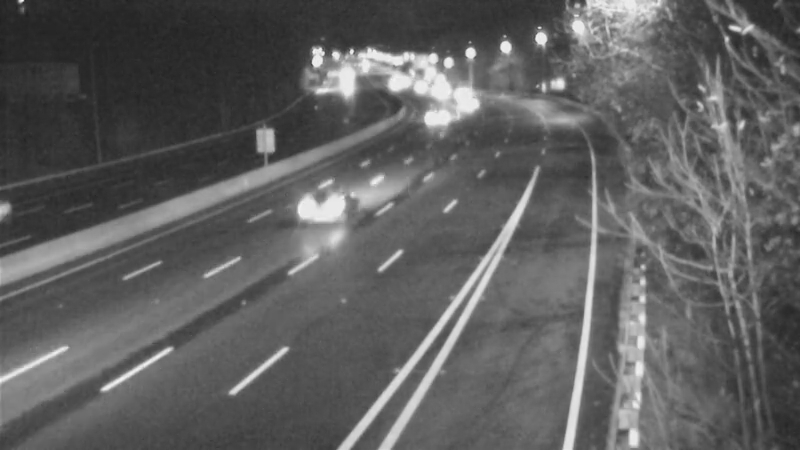vehicle: (291, 166, 371, 246), (1, 171, 70, 251), (417, 67, 467, 117), (438, 69, 488, 119), (444, 81, 494, 131), (414, 93, 464, 143)
